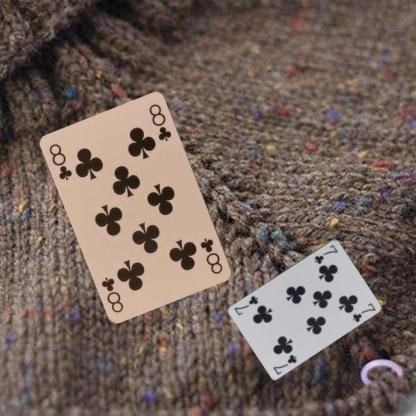7c: (312, 242, 339, 265), (271, 352, 298, 375)
8c: (47, 141, 74, 182), (198, 235, 224, 276)
